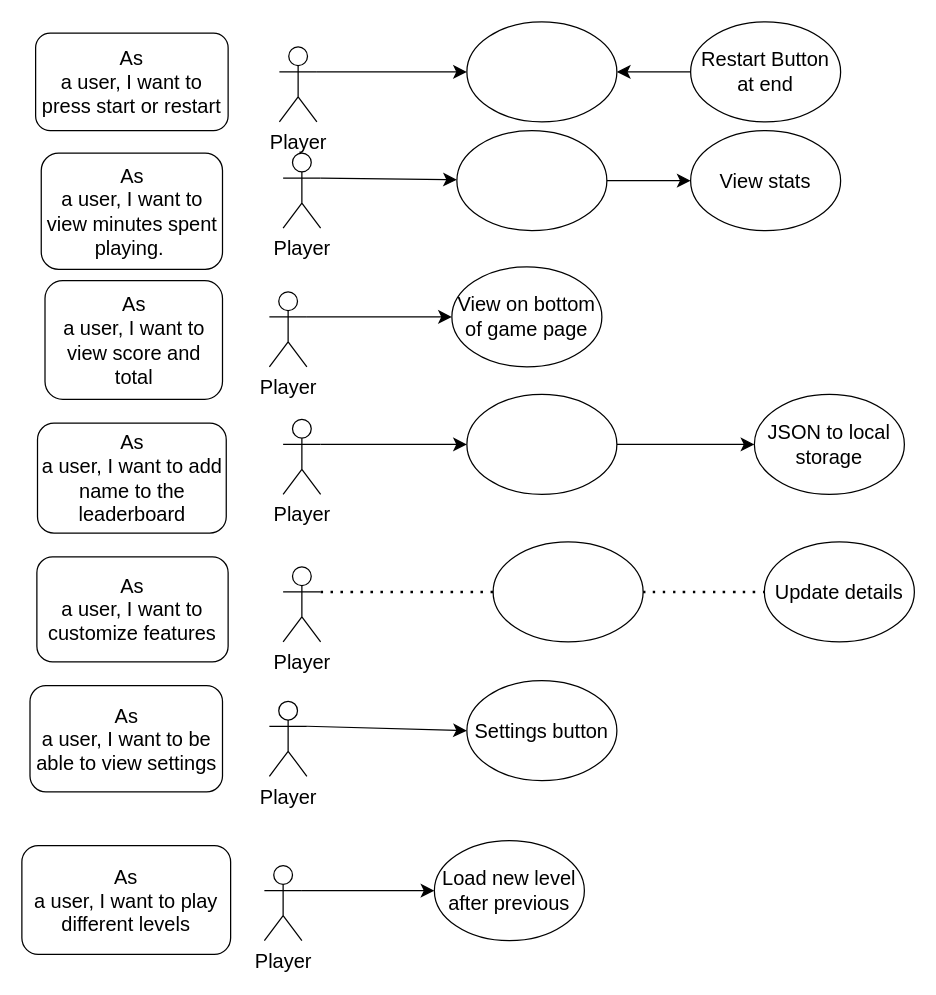
This 936x995 diagram has some shape labels left out. Each missing label, with the box of its shape:
Customize character, ball or club: (492, 541, 643, 642)
Input name and save: (466, 393, 617, 494)
Open Leaderboard: (456, 129, 607, 231)
Start Button: (466, 21, 617, 122)
